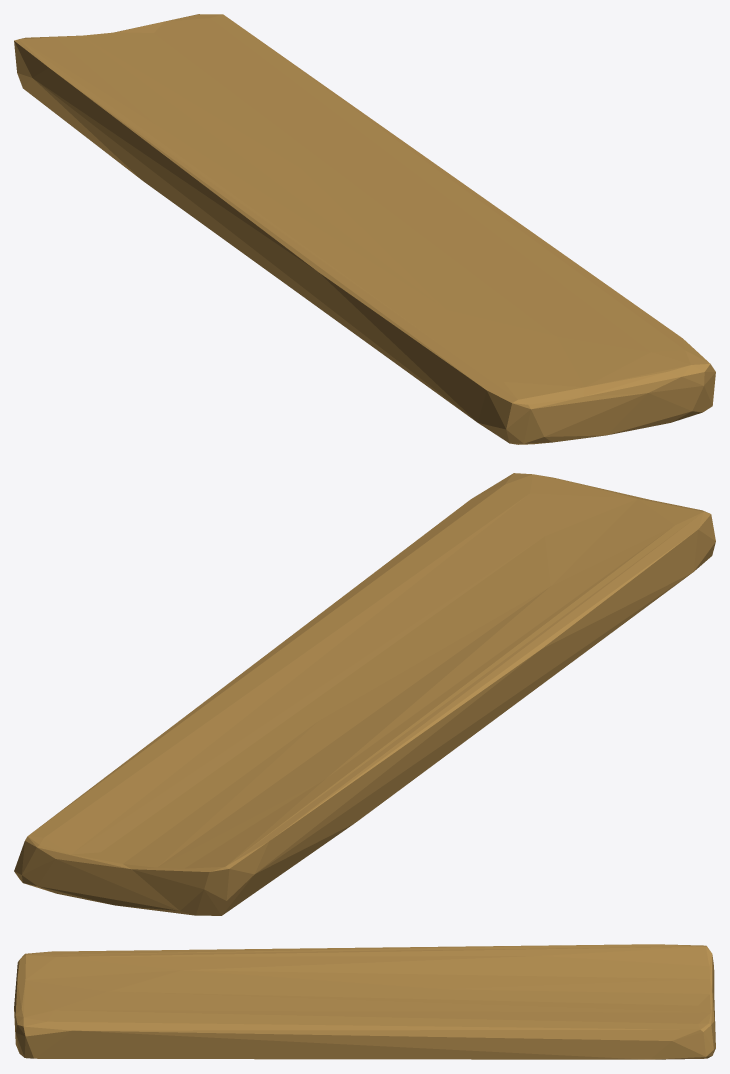
File: Plank.fbx
3 renders of one model, top to bottom at view 1: azimuth 30°, elevation 25°; view 2: azimuth 150°, elevation 25°; view 3: azimuth 270°, elevation 25°, orthographic. The views are drawn at different scales.
Parts seen in each view (by area): view 1: Wooden_plank_hor4.001; view 2: Wooden_plank_hor4.001; view 3: Wooden_plank_hor4.001.
Part boxes in pixels (x1,y1,x2,y2): Wooden_plank_hor4.001: (14,14,715,444); Wooden_plank_hor4.001: (14,473,715,915); Wooden_plank_hor4.001: (14,944,715,1059).
Bounding box in the file's own units: 43.01 × 12.33 × 170.
